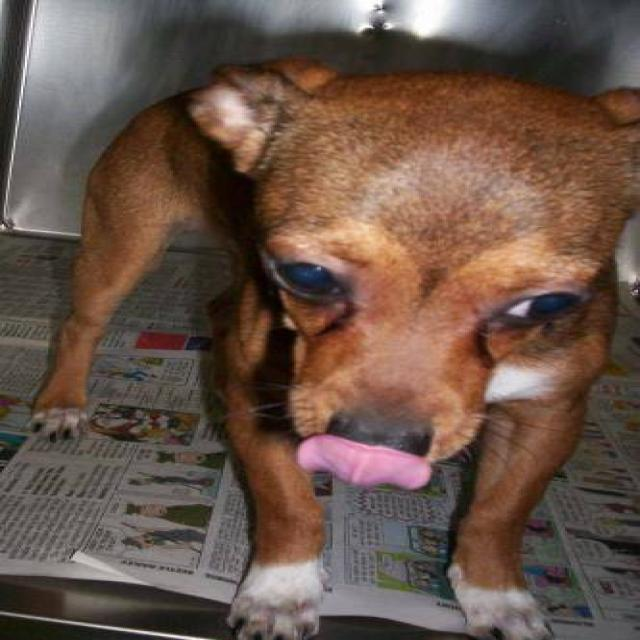dog: (25, 55, 638, 639)
